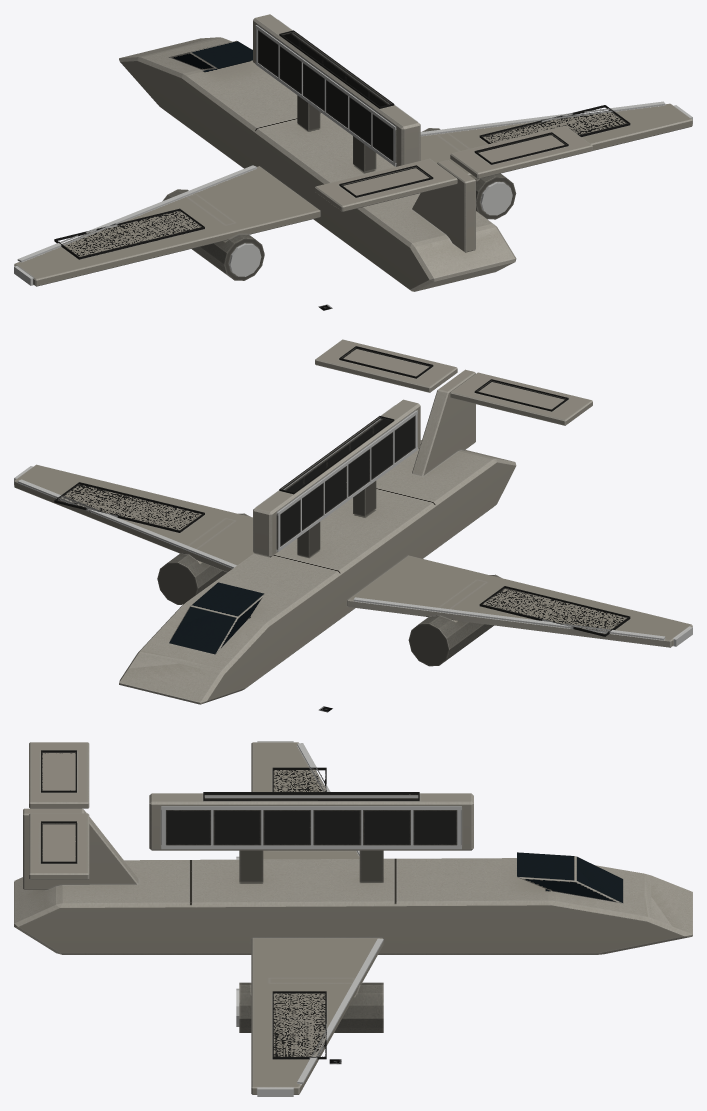
The model's file is ord_archangel.fbx.
The picture shows the model from 3 angles, top to bottom: view 1: azimuth 30°, elevation 25°; view 2: azimuth 150°, elevation 25°; view 3: azimuth 270°, elevation 25°; orthographic projection. The views are drawn at different scales.
Parts seen in each view (by area): view 1: base_bar, dish_bar, base_glow_running_bar, dish_glow_running_bar; view 2: base_bar, dish_bar, base_glow_running_bar, dish_glow_running_bar; view 3: base_bar, dish_bar, dish_glow_running_bar, base_glow_running_bar.
Part boxes in pixels (bbox=[...]): base_bar: bbox=[14, 37, 692, 291]; dish_bar: bbox=[253, 14, 420, 166]; base_glow_running_bar: bbox=[14, 101, 692, 285]; dish_glow_running_bar: bbox=[255, 19, 417, 166]; base_bar: bbox=[14, 339, 692, 704]; dish_bar: bbox=[253, 399, 420, 557]; base_glow_running_bar: bbox=[14, 466, 692, 646]; dish_glow_running_bar: bbox=[255, 405, 417, 551]; base_bar: bbox=[14, 742, 692, 1094]; dish_bar: bbox=[149, 792, 473, 850]; dish_glow_running_bar: bbox=[161, 806, 461, 849]; base_glow_running_bar: bbox=[236, 741, 383, 1096].
Bounding box in the file's own units: 1370 × 488 × 1130.
Materials: 2 (2 with a texture image).
